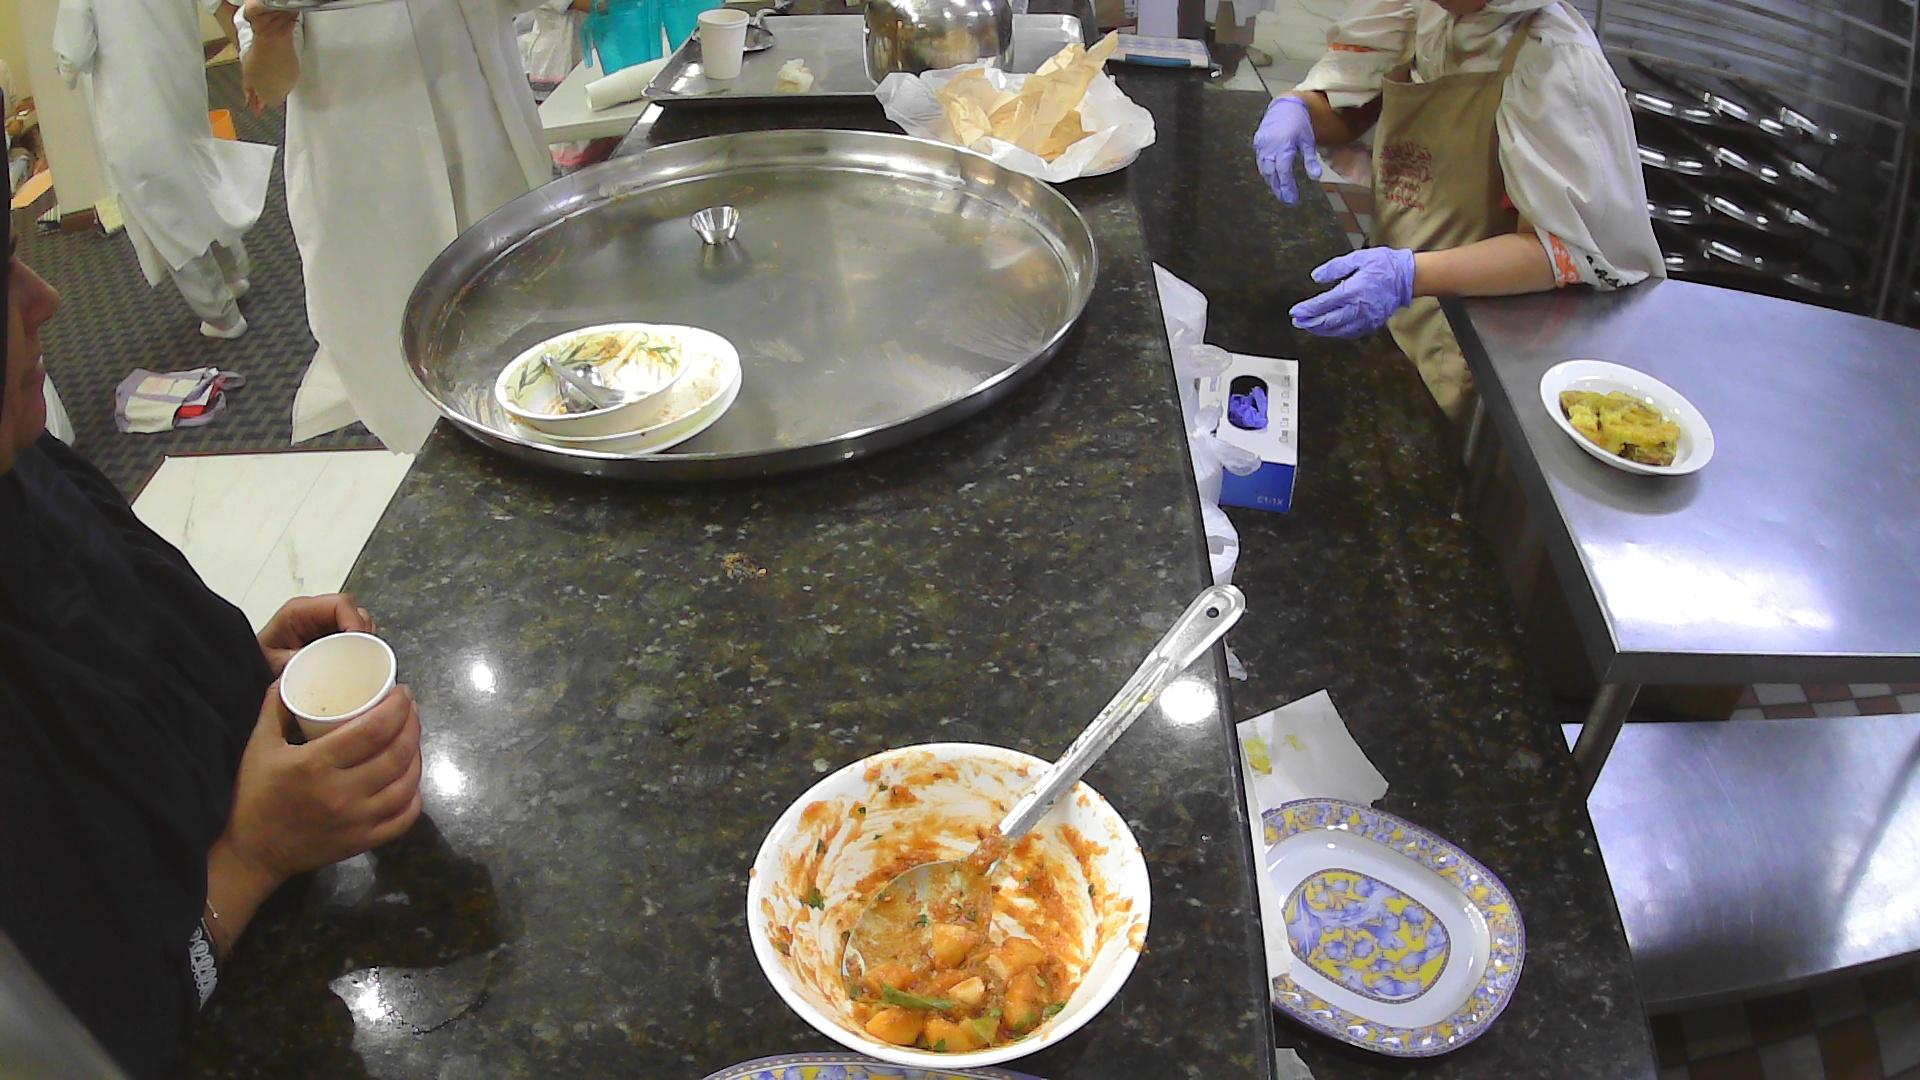thaal: (396, 120, 1104, 489)
